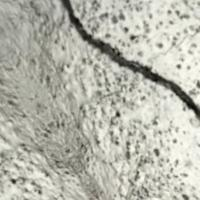crack: (61, 1, 199, 126)
